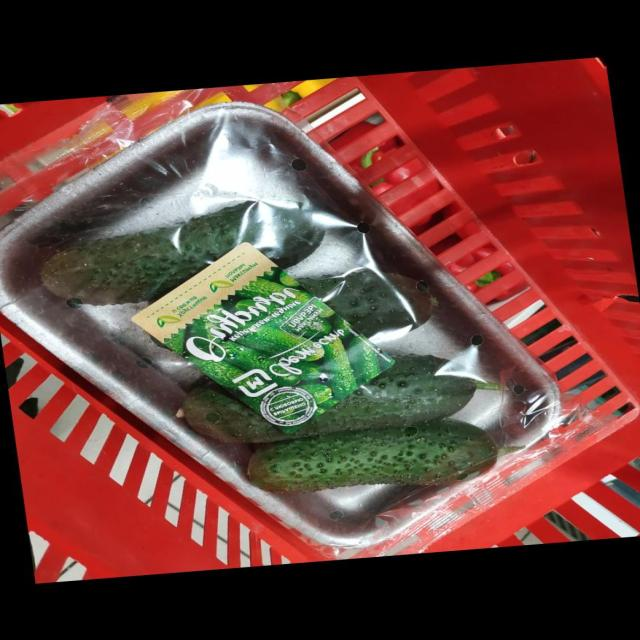Cucumber: (40, 200, 324, 304), (176, 354, 503, 443), (246, 419, 521, 493), (300, 267, 436, 339)
